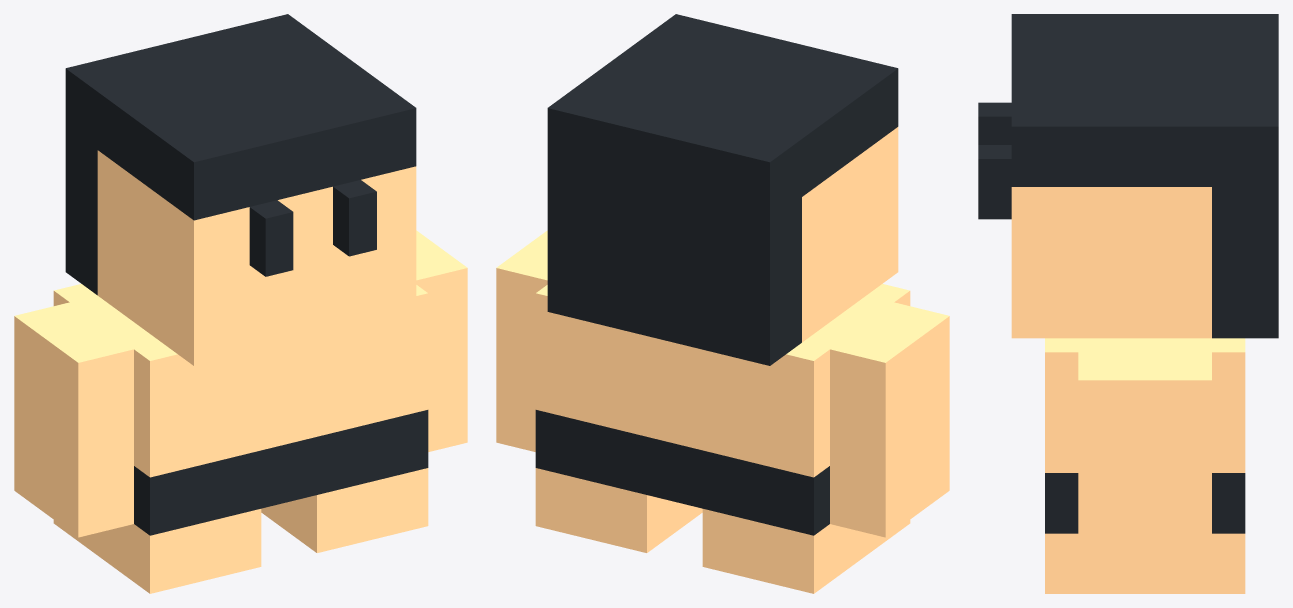
Rendered from voxel-sumo.glb.
3 views of the same model, side by side, from view 1: azimuth 30°, elevation 25°; view 2: azimuth 150°, elevation 25°; view 3: azimuth 270°, elevation 25° (orthographic). The views are drawn at different scales.
Parts seen in each view (by area): view 1: sumo; view 2: sumo; view 3: sumo.
Part boxes in pixels (x1,y1,x2,y2): sumo: (14, 14, 467, 593); sumo: (496, 14, 949, 593); sumo: (978, 14, 1278, 593).
Bounding box in the file's own units: 2.24 × 2.4 × 1.44.
